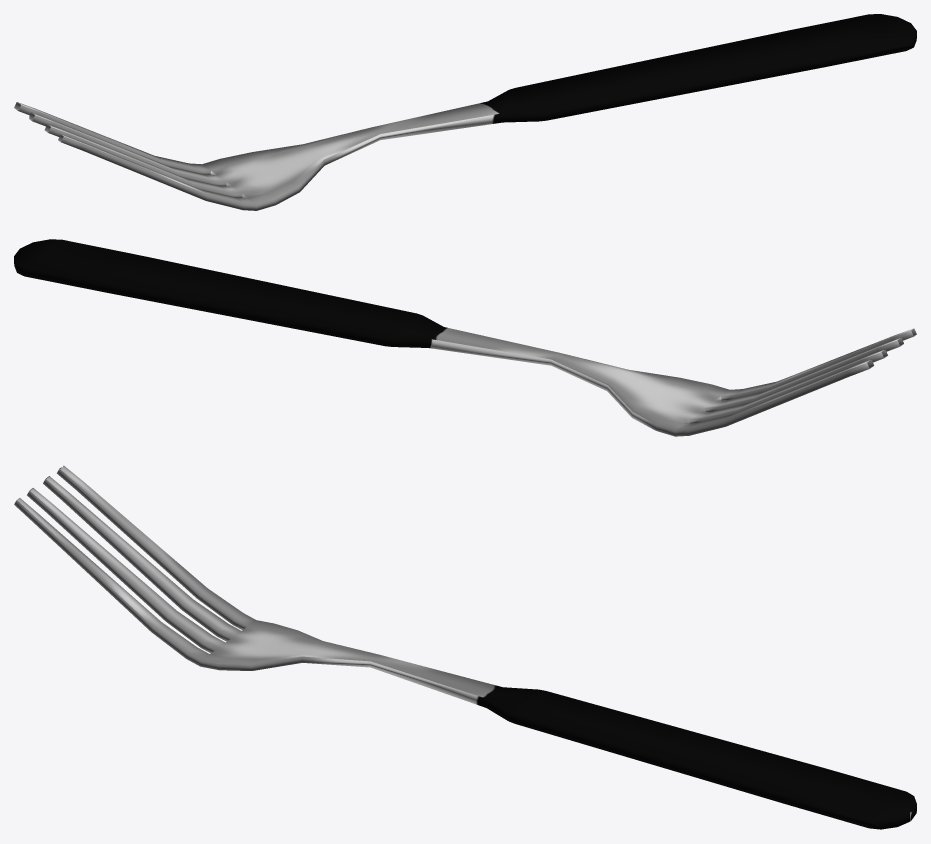
File: Fork.fbx
3 views of the same model, one above another, from view 1: azimuth 30°, elevation 25°; view 2: azimuth 150°, elevation 25°; view 3: azimuth 330°, elevation 25° (orthographic).
Parts seen in each view (by area): view 1: Mesh; view 2: Mesh; view 3: Mesh.
Part boxes in pixels (<box>): Mesh: <box>14,14,916,210</box>; Mesh: <box>14,239,916,436</box>; Mesh: <box>14,465,916,829</box>.
Bounding box in the file's own units: 17449 × 2394 × 1915.
Materials: 1 (1 with a texture image).
